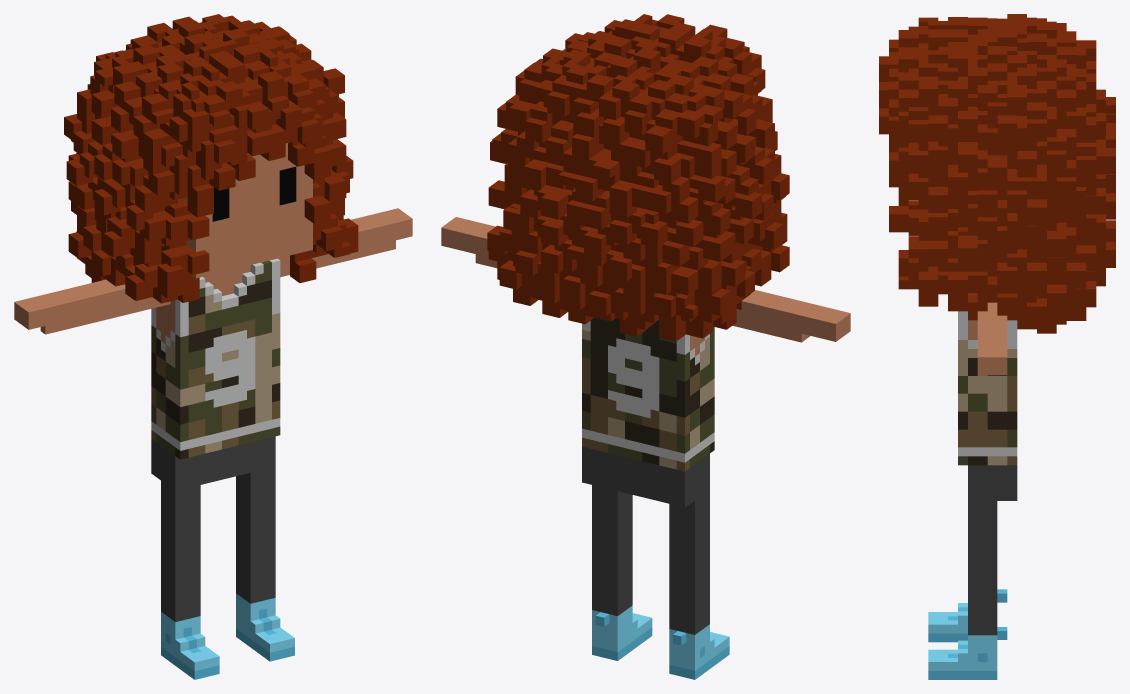
File: Meebit2Rig-nobone.fbx
3 views of the same model, side by side, from view 1: azimuth 30°, elevation 25°; view 2: azimuth 150°, elevation 25°; view 3: azimuth 270°, elevation 25° (orthographic). The views are drawn at different scales.
Parts seen in each view (by area): view 1: meebit_05958_t_solid; view 2: meebit_05958_t_solid; view 3: meebit_05958_t_solid.
Part boxes in pixels (<box>): meebit_05958_t_solid: <box>14,14,412,679</box>; meebit_05958_t_solid: <box>441,14,850,679</box>; meebit_05958_t_solid: <box>879,14,1115,679</box>.
Bounding box in the file's own units: 115 × 172 × 60.
